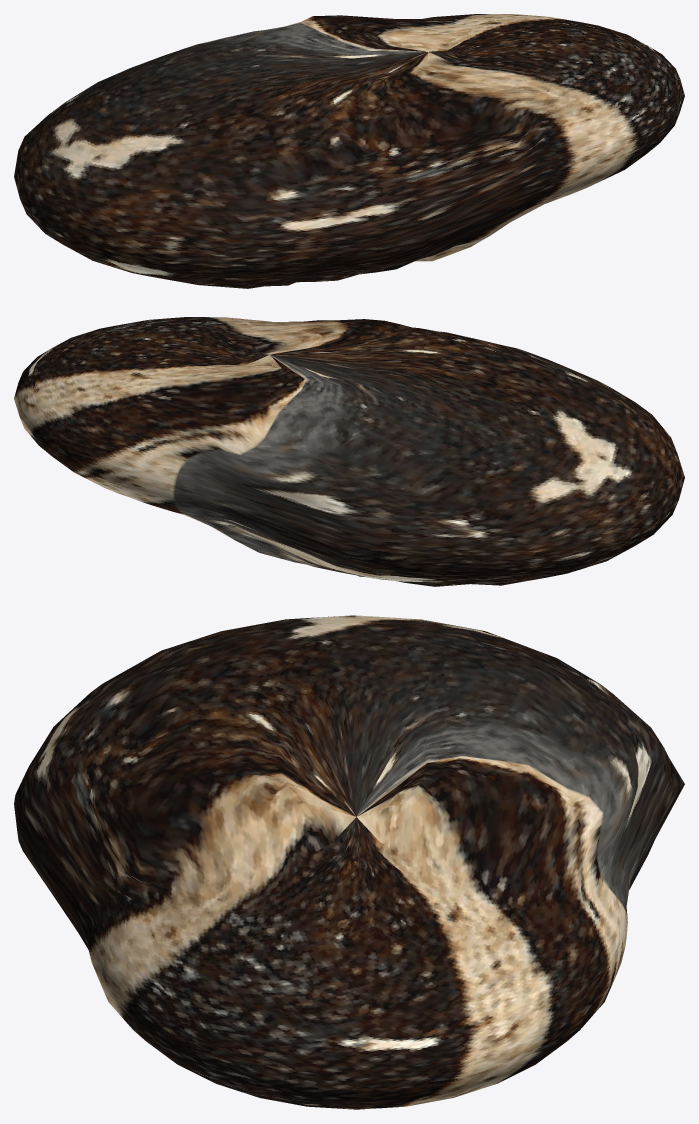
File: sunseed_1.FBX
3 renders of one model, top to bottom at view 1: azimuth 30°, elevation 25°; view 2: azimuth 150°, elevation 25°; view 3: azimuth 270°, elevation 25°, orthographic. The views are drawn at different scales.
Parts seen in each view (by area): view 1: Sphere001; view 2: Sphere001; view 3: Sphere001.
Boxes of the visible parts, box(x1,y1,x2,y2) form: Sphere001: box(14, 14, 684, 288); Sphere001: box(14, 317, 684, 586); Sphere001: box(14, 615, 684, 1109).
Bounding box in the file's own units: 40.19 × 9.75 × 25.7.
1 material, 1 textured.
